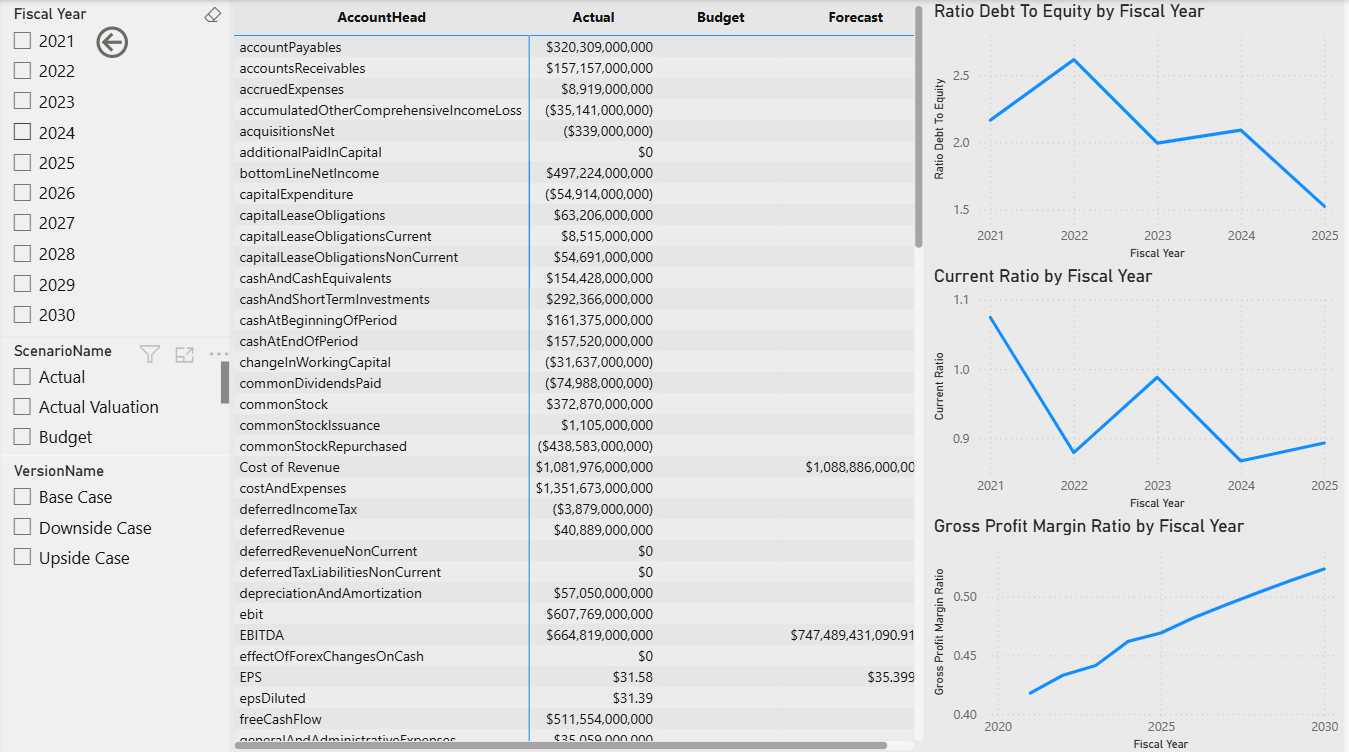

The page's visual inventory and layout, read from the dashboard file:
{"tool":"powerbi","page":{"name":"Unified_Financial_Metric","canvas":[1280,720],"ordinal":1},"visuals":[{"type":"pivotTable","fields":{"Values":["_CoreFinancialMetrics.Unified_Financial_Metric"],"Rows":["dAccount.AccountHead"],"Columns":["dScenario.ScenarioName"]},"box":[0,0,356.7,719.7],"z":0},{"type":"slicer","fields":{"Values":["dAccount.FinancialStatement"]},"box":[380.6,0,198,145.1],"z":1000},{"type":"slicer","fields":{"Values":["dCalendar.Year"]},"box":[373.8,145.1,198,322.6],"z":2000},{"type":"slicer","fields":{"Values":["dScenario.ScenarioName"]},"box":[373.8,467.6,199.7,126.3],"z":3000},{"type":"waterfallChart","fields":{"Category":["dAccount.AccountHead"],"Y":["_CoreFinancialMetrics.Scenario_Variance"]},"box":[571.7,0,708.3,576.9],"z":4000},{"type":"slicer","fields":{"Values":["dVersion.VersionName"]},"box":[372.1,576.9,199.7,126.3],"z":5000},{"type":"pivotTable","fields":{"Rows":["dAccount.AccountHead"],"Values":["_CoreFinancialMetrics.Budget_Variance_vs_Actual"]},"box":[572.5,576.4,706.5,144.4],"z":6000}]}

Visuals, with their boxes on the page's 1280x720 design canvas (x1, y1, x2, y2). These are canvas units, not pixel positions in the 1349x752 screenshot, which may show the page scaled, cropped or inside an application window:
pivotTable - _CoreFinancialMetrics.Unified_Financial_Metric x dAccount.AccountHead: Rect(0, 0, 357, 720)
slicer - dAccount.FinancialStatement: Rect(381, 0, 579, 145)
slicer - dCalendar.Year: Rect(374, 145, 572, 468)
slicer - dScenario.ScenarioName: Rect(374, 468, 574, 594)
waterfallChart - dAccount.AccountHead x _CoreFinancialMetrics.Scenario_Variance: Rect(572, 0, 1280, 577)
slicer - dVersion.VersionName: Rect(372, 577, 572, 703)
pivotTable - dAccount.AccountHead x _CoreFinancialMetrics.Budget_Variance_vs_Actual: Rect(572, 576, 1279, 721)
